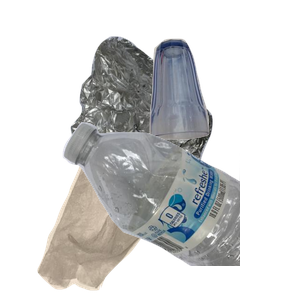glass: (147, 36, 300, 168)
metal: (68, 34, 300, 214)
plastic: (60, 120, 300, 300)
trash: (35, 140, 203, 300)
